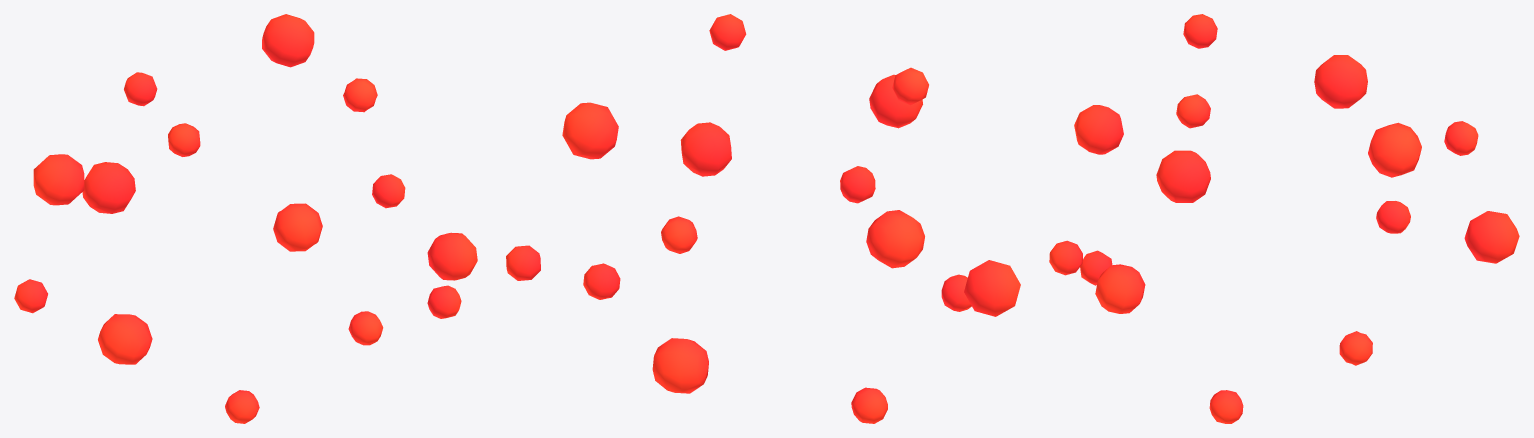
The model's file is bush 02_toon_material_secondary_0.001.glb.
3 views of the same model, side by side, from view 1: azimuth 30°, elevation 25°; view 2: azimuth 150°, elevation 25°; view 3: azimuth 270°, elevation 25° (orthographic). The views are drawn at different scales.
Parts seen in each view (by area): view 1: bush 02_toon_material_secondary_0.001; view 2: bush 02_toon_material_secondary_0.001; view 3: bush 02_toon_material_secondary_0.001.
Part boxes in pixels (left/top/right/bottom): bush 02_toon_material_secondary_0.001: left=14, top=14, right=477, bottom=423; bush 02_toon_material_secondary_0.001: left=506, top=14, right=1020, bottom=423; bush 02_toon_material_secondary_0.001: left=1049, top=14, right=1519, bottom=423.
Bounding box in the file's own units: 1.77 × 1.2 × 1.85.
Materials: 1 (1 with a texture image).
